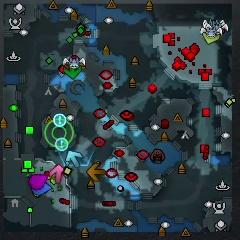Other: (55, 137, 68, 152), (54, 113, 66, 127)
p1: (31, 183, 52, 196)
p3: (29, 174, 47, 189)
x1: (51, 164, 66, 183)
x2: (203, 31, 220, 44)
x3: (65, 151, 82, 168)
x4: (63, 64, 81, 79)
x5: (87, 163, 106, 182)
